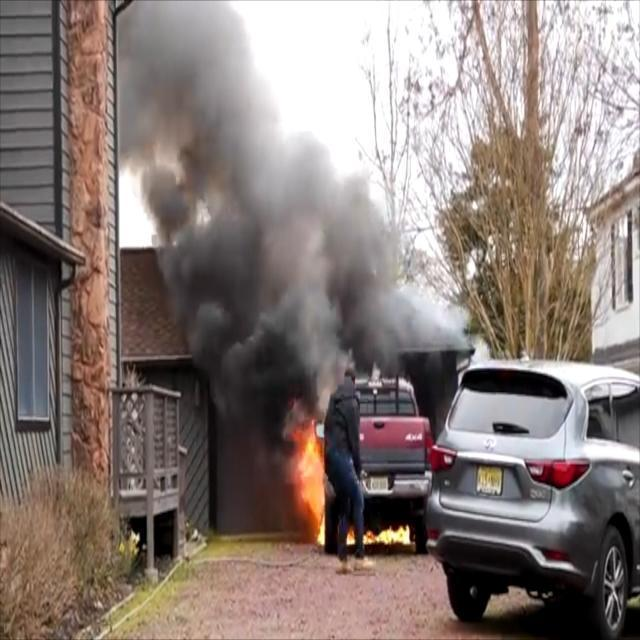fire: (278, 405, 338, 542), (338, 512, 420, 547)
